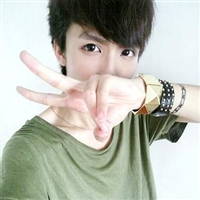face: (66, 5, 143, 109)
